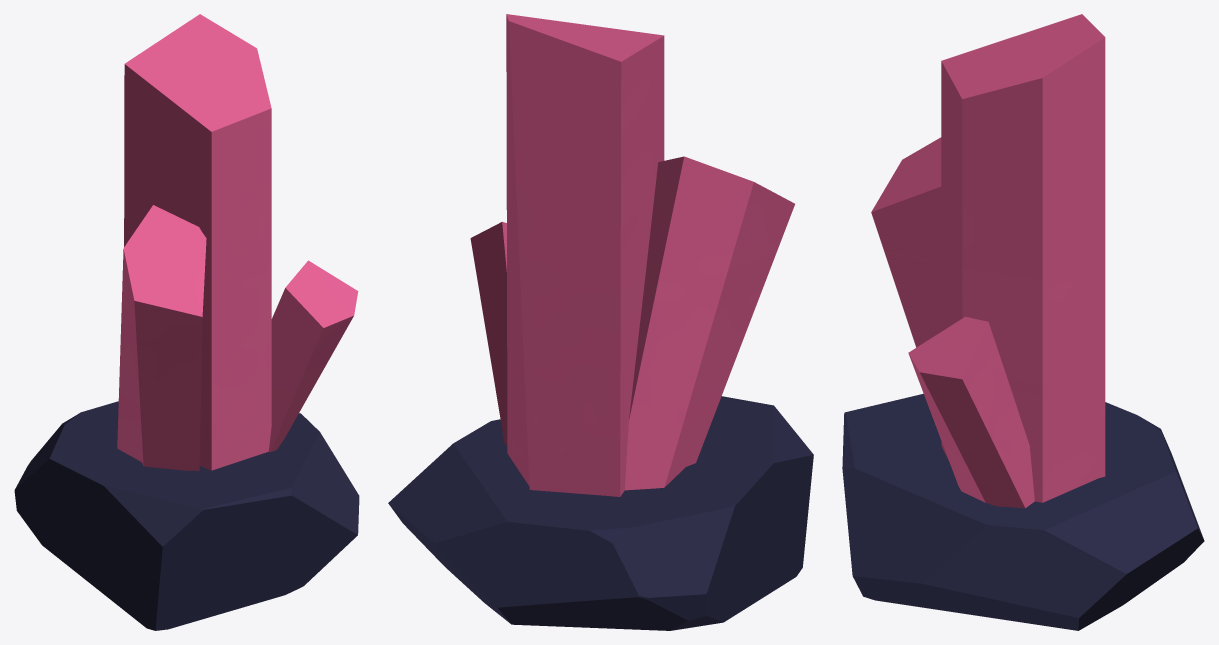
3 views of the same model, side by side, from view 1: azimuth 30°, elevation 25°; view 2: azimuth 150°, elevation 25°; view 3: azimuth 270°, elevation 25° (orthographic). The views are drawn at different scales.
Parts seen in each view (by area): view 1: Nó 1; view 2: Nó 1; view 3: Nó 1.
Boxes of the visible parts, left/top/right/bottom form: Nó 1: left=14, top=14, right=359, bottom=630; Nó 1: left=388, top=14, right=813, bottom=630; Nó 1: left=842, top=14, right=1204, bottom=630.
Bounding box in the file's own units: 98.26 × 171 × 97.17.
2 materials, 1 textured.
